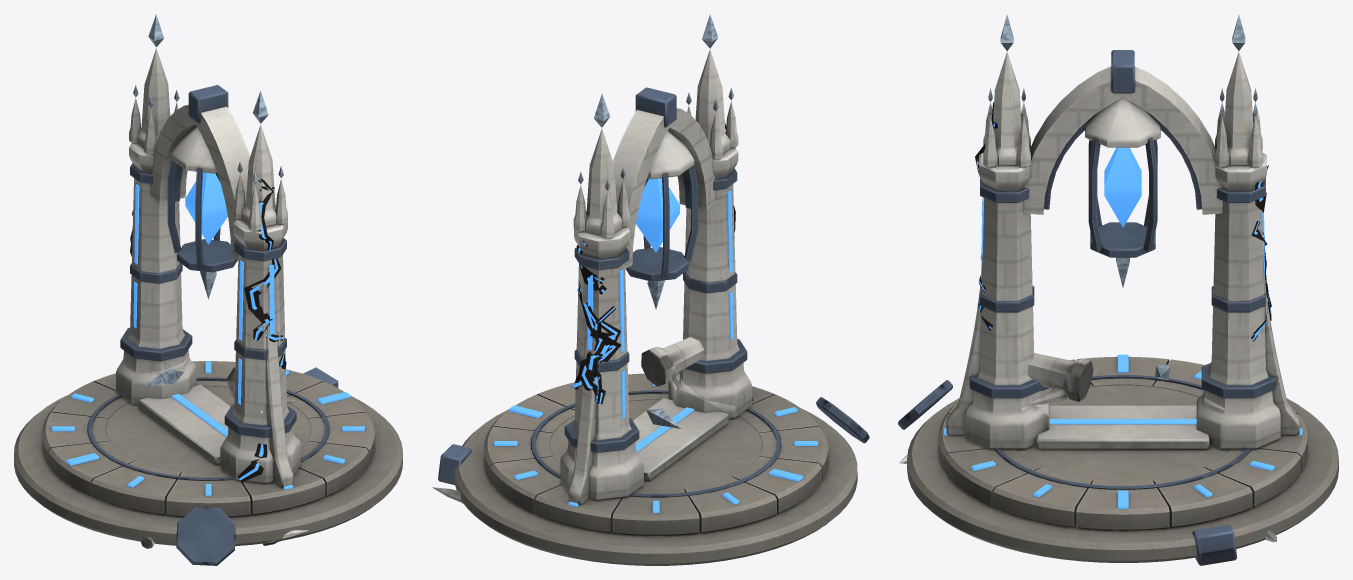
The model's file is lantern_aubade.glb.
The picture shows the model from 3 angles, left to right: view 1: azimuth 30°, elevation 25°; view 2: azimuth 150°, elevation 25°; view 3: azimuth 270°, elevation 25°; orthographic projection. The views are drawn at different scales.
Parts seen in each view (by area): view 1: lantern_aubade_upper, lantern_aubade_base, lantern_aubade_ruin, lantern_aubade_glow.001, lantern_aubade_core, lantern_aubade_dmg2, lantern_aubade_chip1, lantern_aubade_glow_base, lantern_aubade_chip2, lantern_aubade_dmg1; view 2: lantern_aubade_base, lantern_aubade_upper, lantern_aubade_ruin, lantern_aubade_dmg2, lantern_aubade_chip1, lantern_aubade_glow.001, lantern_aubade_core, lantern_aubade_glow_base, lantern_aubade_chip2; view 3: lantern_aubade_upper, lantern_aubade_base, lantern_aubade_ruin, lantern_aubade_chip1, lantern_aubade_core, lantern_aubade_glow.001, lantern_aubade_glow_base.
Part boxes in pixels (box(x1,y1,x2,y2)): lantern_aubade_upper: box(116, 48, 300, 488); lantern_aubade_base: box(14, 361, 402, 545); lantern_aubade_ruin: box(118, 355, 338, 565); lantern_aubade_glow.001: box(133, 184, 274, 436); lantern_aubade_core: box(185, 172, 227, 244); lantern_aubade_dmg2: box(130, 210, 283, 481); lantern_aubade_chip1: box(130, 14, 286, 261); lantern_aubade_glow_base: box(52, 361, 364, 495); lantern_aubade_chip2: box(174, 89, 283, 299); lantern_aubade_dmg1: box(258, 178, 286, 369); lantern_aubade_base: box(454, 373, 857, 565); lantern_aubade_upper: box(560, 49, 751, 504); lantern_aubade_ruin: box(432, 337, 869, 504); lantern_aubade_dmg2: box(574, 205, 752, 404); lantern_aubade_chip1: box(573, 14, 737, 270); lantern_aubade_glow.001: box(587, 190, 733, 451); lantern_aubade_core: box(636, 178, 679, 252); lantern_aubade_glow_base: box(494, 383, 818, 512); lantern_aubade_chip2: box(578, 101, 738, 309); lantern_aubade_upper: box(946, 50, 1299, 449); lantern_aubade_base: box(907, 356, 1338, 562); lantern_aubade_ruin: box(898, 353, 1296, 565); lantern_aubade_chip1: box(980, 14, 1265, 202); lantern_aubade_core: box(1104, 147, 1141, 227); lantern_aubade_glow.001: box(981, 197, 1264, 424); lantern_aubade_glow_base: box(943, 354, 1302, 508).
Bounding box in the file's own units: 3.96 × 4.7 × 4.04.
Materials: 4 (1 with a texture image).
